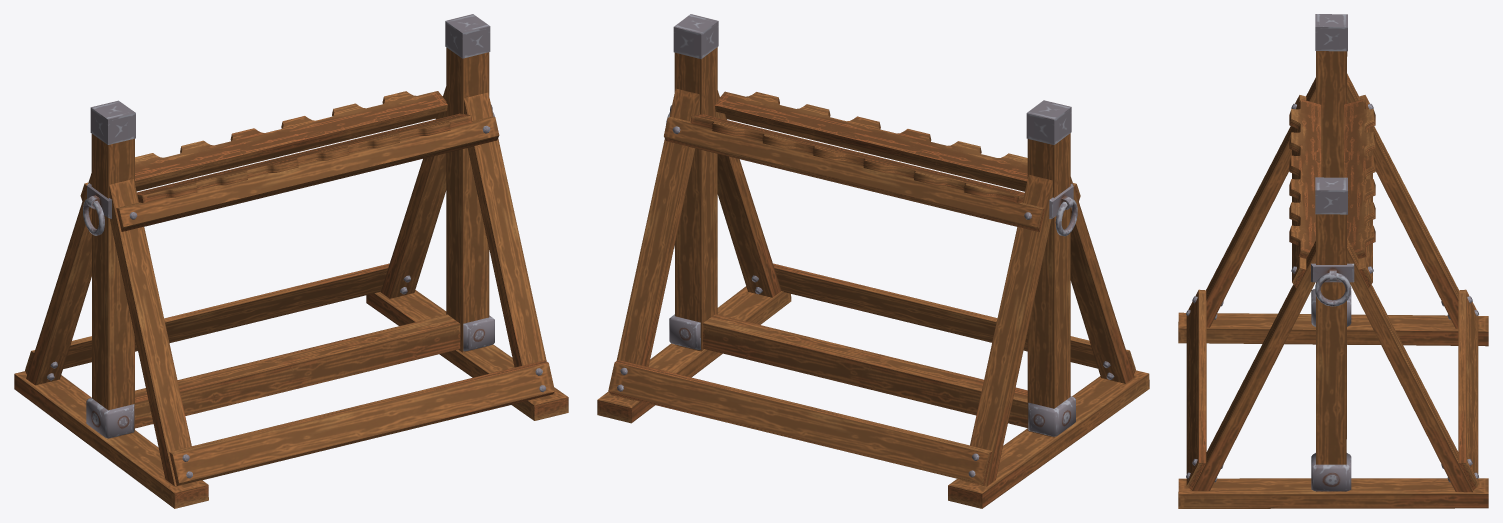
The model's file is WeaponStand.fbx.
The picture shows the model from 3 angles, left to right: view 1: azimuth 30°, elevation 25°; view 2: azimuth 150°, elevation 25°; view 3: azimuth 270°, elevation 25°; orthographic projection. The views are drawn at different scales.
Visible parts, largest first — view 1: WeaponStand; view 2: WeaponStand; view 3: WeaponStand.
Boxes of the visible parts, x1=… form: WeaponStand: x1=14, y1=14, x2=568, y2=508; WeaponStand: x1=597, y1=14, x2=1149, y2=508; WeaponStand: x1=1178, y1=14, x2=1488, y2=508.
Bounding box in the file's own units: 139 × 111 × 98.31.
